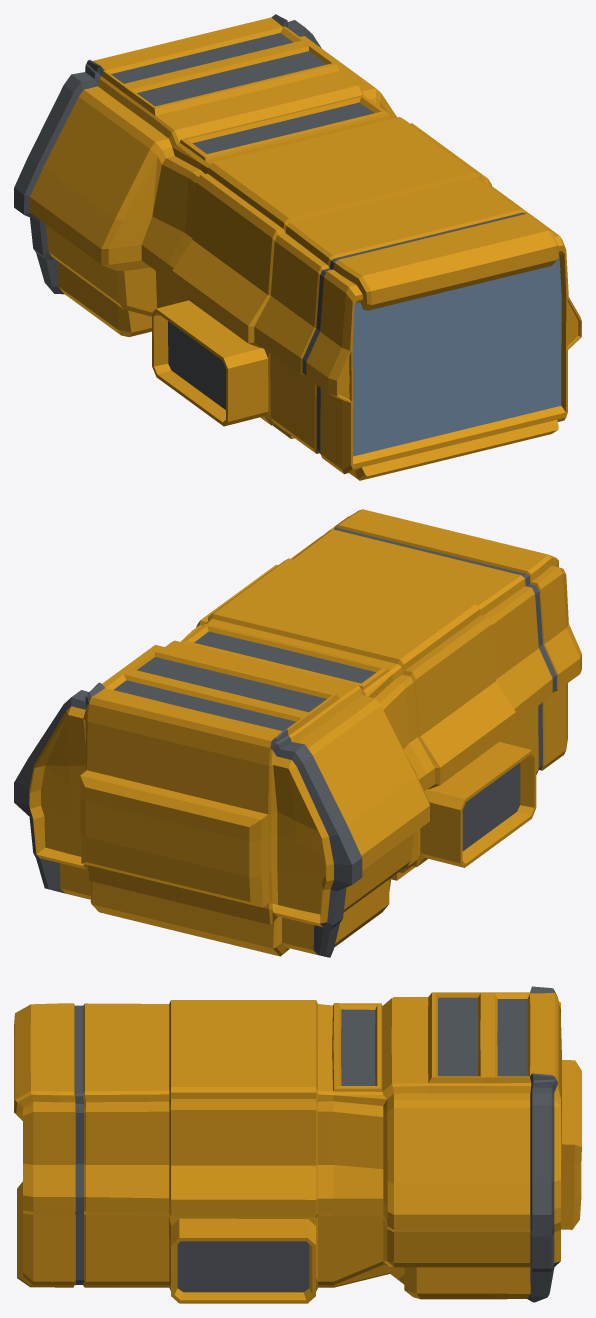
File: Fighter_10_Frontal_Body_Yellow.fbx
3 renders of one model, top to bottom at view 1: azimuth 30°, elevation 25°; view 2: azimuth 150°, elevation 25°; view 3: azimuth 270°, elevation 25°, orthographic. The views are drawn at different scales.
Parts seen in each view (by area): view 1: Fighter_10_Frontal_Body_Yellow; view 2: Fighter_10_Frontal_Body_Yellow; view 3: Fighter_10_Frontal_Body_Yellow.
Boxes of the visible parts, left/top/right/bottom form: Fighter_10_Frontal_Body_Yellow: left=14, top=14, right=581, bottom=480; Fighter_10_Frontal_Body_Yellow: left=14, top=509, right=581, bottom=957; Fighter_10_Frontal_Body_Yellow: left=14, top=986, right=581, bottom=1303.
Bounding box in the file's own units: 971 × 660 × 1478.
Materials: 3 (3 with a texture image).
